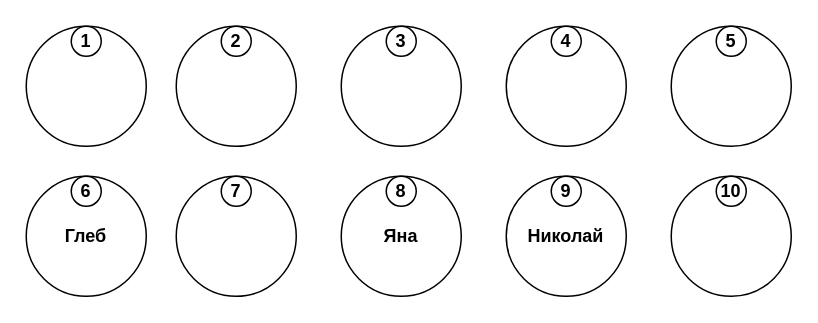
The diagram is 818 pixels wide and 323 high, and some of its shapes have lost their labels. Here are the shapes that lost their labels. From the top down, the box of each, then its label:
(25, 25, 146, 146): Иван
(175, 25, 296, 146): Вера
(340, 25, 461, 146): Анна
(505, 25, 626, 146): Олег
(670, 25, 791, 146): Нина
(175, 175, 296, 296): Пётр
(670, 175, 791, 296): Инна
